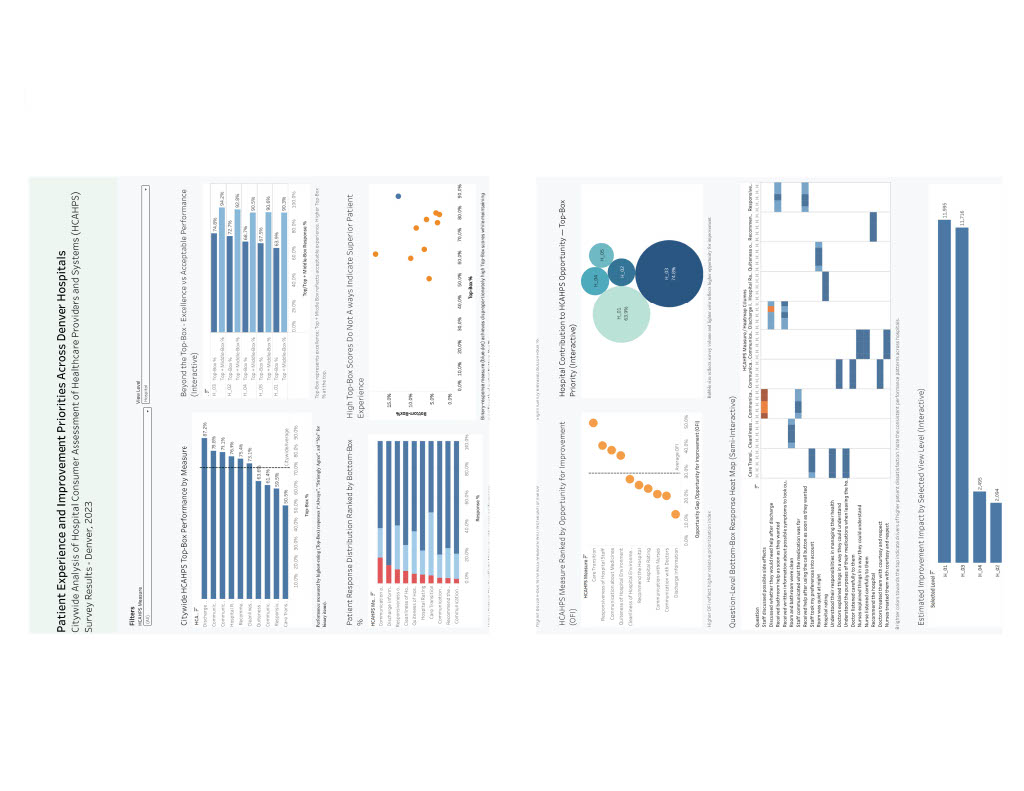

This screenshot's page, from the dashboard's own definition file:
{"tool":"tableau","page":{"name":"Dashboard","canvas":[1200,2560],"ordinal":0},"visuals":[{"type":"text","box":[14,14,1172,231]},{"type":"filter","title":"Hospitals Contribution","param":"[federated.1vgf3k60fdyf0p12ktelz09474j1].[none:HCAHPS_Measure:nk]","box":[32,263,568,92]},{"type":"parameter","param":"[Parameters].[Parameter 1]","box":[600,263,568,92]},{"type":"worksheet","title":"Overview","mark":"Bar","rows":["HCAHPS_Measure"],"cols":["Calculation_0053356272869380"],"box":[14,373,586,425]},{"type":"worksheet","title":"Beyond the Top-Box","mark":"Automatic","rows":["Calculation_1079200845148163"],"box":[600,373,586,425]},{"type":"worksheet","title":"Distribution","mark":"Bar","rows":["HCAHPS_Measure"],"box":[14,798,531,424]},{"type":"worksheet","title":"Top v Bottom","mark":"Circle","rows":["Calculation_0773536413831168"],"cols":["Calculation_0053356272869380"],"box":[545,798,641,424]},{"type":"worksheet","title":"OFI","mark":"Circle","rows":["HCAHPS_Measure"],"cols":["Calculation_0199316032053258"],"box":[14,1222,586,442]},{"type":"worksheet","title":"Hospitals Contribution","mark":"Circle","box":[600,1222,586,442]},{"type":"worksheet","title":"Question-Level","mark":"Square","rows":["Question"],"cols":["HCAHPS_Measure","Calculation_0018448415801344"],"box":[14,1664,1172,478]},{"type":"worksheet","title":"QI Impact","mark":"Bar","rows":["Calculation_1079200845148163"],"cols":["Calculation_0149013607989266"],"box":[14,2142,1172,404]}]}

Visuals, with their boxes on the page's 1200x2560 design canvas (x1, y1, x2, y2). These are canvas units, not pixel positions in the 1024x791 screenshot, which may show the page scaled, cropped or inside an application window:
text: left=14, top=14, right=1186, bottom=245
"Hospitals Contribution" filter: left=32, top=263, right=600, bottom=355
parameter: left=600, top=263, right=1168, bottom=355
"Overview" worksheet (Bar marks): left=14, top=373, right=600, bottom=798
"Beyond the Top-Box" worksheet: left=600, top=373, right=1186, bottom=798
"Distribution" worksheet (Bar marks): left=14, top=798, right=545, bottom=1222
"Top v Bottom" worksheet (Circle marks): left=545, top=798, right=1186, bottom=1222
"OFI" worksheet (Circle marks): left=14, top=1222, right=600, bottom=1664
"Hospitals Contribution" worksheet (Circle marks): left=600, top=1222, right=1186, bottom=1664
"Question-Level" worksheet (Square marks): left=14, top=1664, right=1186, bottom=2142
"QI Impact" worksheet (Bar marks): left=14, top=2142, right=1186, bottom=2546
